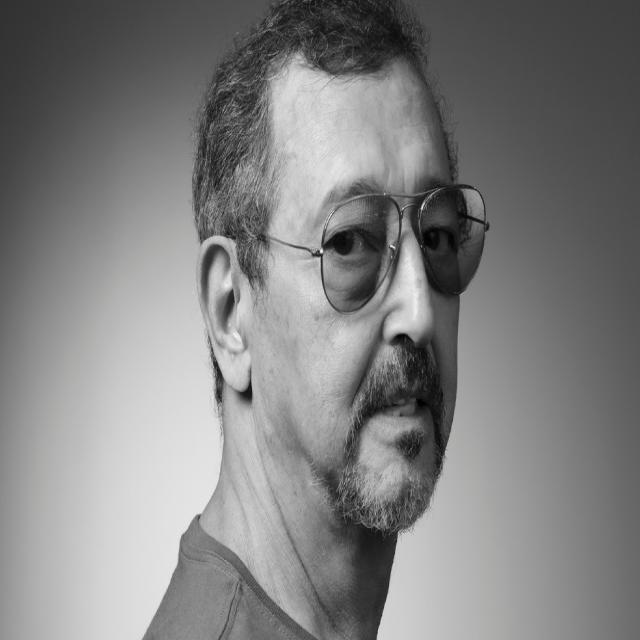sem_oculos: (232, 161, 500, 315)
